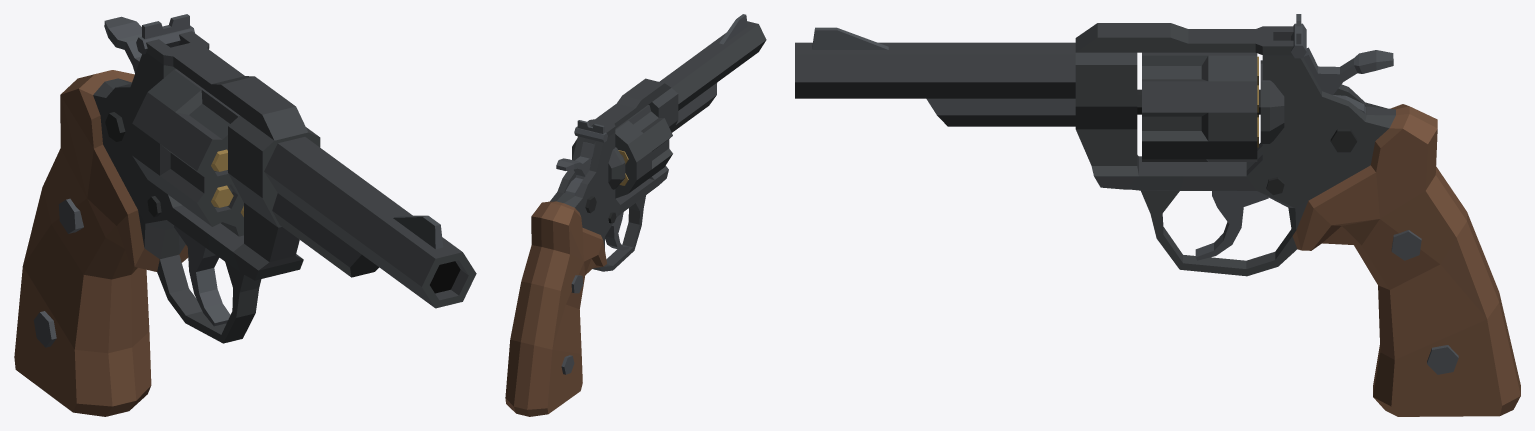
The model's file is Revolver_01.fbx.
3 views of the same model, side by side, from view 1: azimuth 30°, elevation 25°; view 2: azimuth 150°, elevation 25°; view 3: azimuth 270°, elevation 25° (orthographic). The views are drawn at different scales.
Visible parts, largest first — view 1: Revolver_01, Revolver_01_Cylinder, Revolver_01_Trigger, Revolver_01_Hammer, Revolver_01_Bullet; view 2: Revolver_01, Revolver_01_Cylinder, Revolver_01_Hammer, Revolver_01_Trigger; view 3: Revolver_01, Revolver_01_Cylinder, Revolver_01_Hammer, Revolver_01_Trigger.
Boxes of the visible parts, x1,y1,x2,y2 form: Revolver_01: (14, 14, 476, 416); Revolver_01_Cylinder: (132, 69, 243, 236); Revolver_01_Trigger: (174, 225, 230, 326); Revolver_01_Hammer: (104, 16, 141, 73); Revolver_01_Bullet: (211, 149, 243, 216); Revolver_01: (505, 14, 766, 416); Revolver_01_Cylinder: (572, 105, 672, 198); Revolver_01_Hammer: (556, 142, 594, 195); Revolver_01_Trigger: (605, 212, 628, 250); Revolver_01: (795, 14, 1520, 416); Revolver_01_Cylinder: (1137, 52, 1260, 161); Revolver_01_Hammer: (1303, 47, 1393, 114); Revolver_01_Trigger: (1195, 191, 1268, 260).
Bounding box in the file's own units: 0.0444 × 0.1594 × 0.2746.
